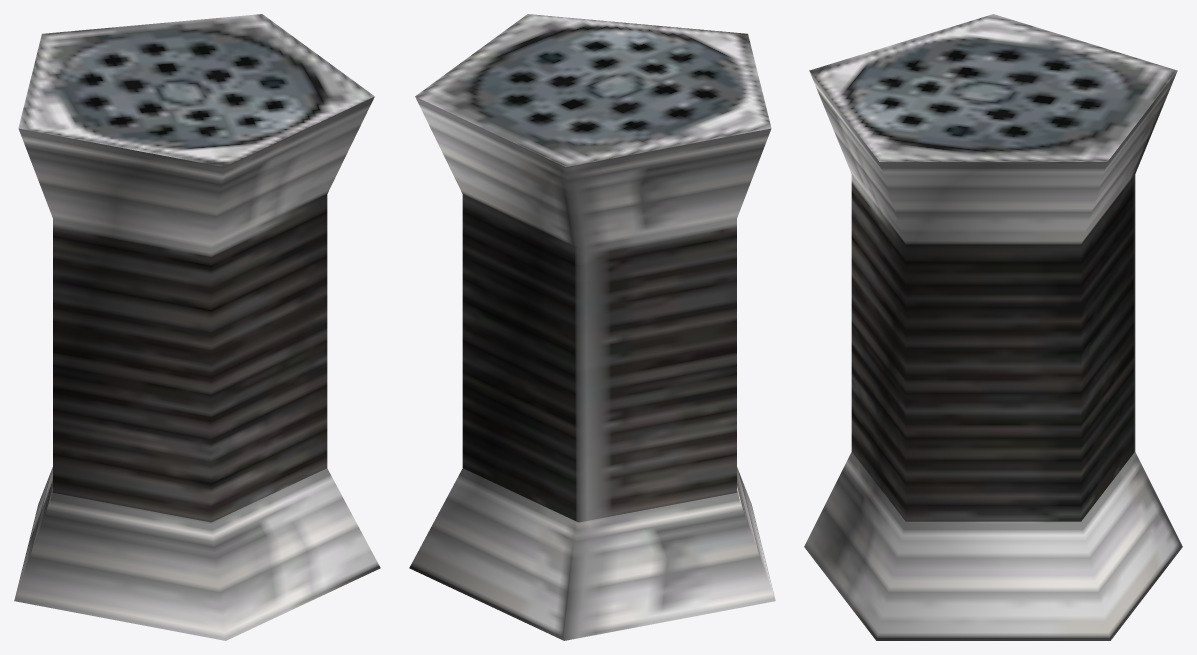
File: wp_grenade_tranquilizing_dart_l1.fbx
The picture shows the model from 3 angles, left to right: view 1: azimuth 30°, elevation 25°; view 2: azimuth 150°, elevation 25°; view 3: azimuth 270°, elevation 25°; orthographic projection.
Visible parts, largest first — view 1: mesh_node; view 2: mesh_node; view 3: mesh_node.
Part boxes in pixels (x1,y1,x2,y2): mesh_node: (14,14,380,640); mesh_node: (409,14,775,640); mesh_node: (804,14,1182,640).
Bounding box in the file's own units: 0.1329 × 0.1941 × 0.1398.
